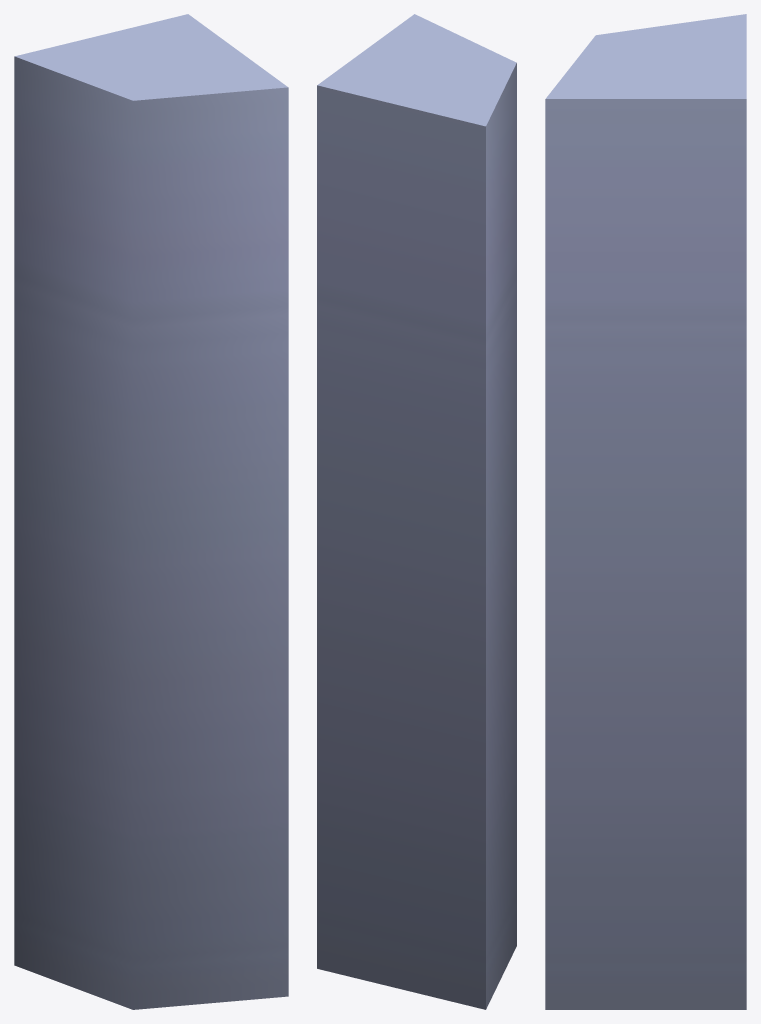
The model's file is kenney-prototype-column-rounded.glb.
3 renders of one model, left to right at view 1: azimuth 30°, elevation 25°; view 2: azimuth 150°, elevation 25°; view 3: azimuth 270°, elevation 25°, orthographic. The views are drawn at different scales.
Visible parts, largest first — view 1: column-rounded; view 2: column-rounded; view 3: column-rounded.
Part boxes in pixels (box(x1,y1,x2,y2)): column-rounded: box(14, 14, 288, 1009); column-rounded: box(317, 14, 516, 1009); column-rounded: box(545, 14, 746, 1009).
Size of the model in its own units: 0.2 by 1 by 0.2.
1 material, 1 textured.
